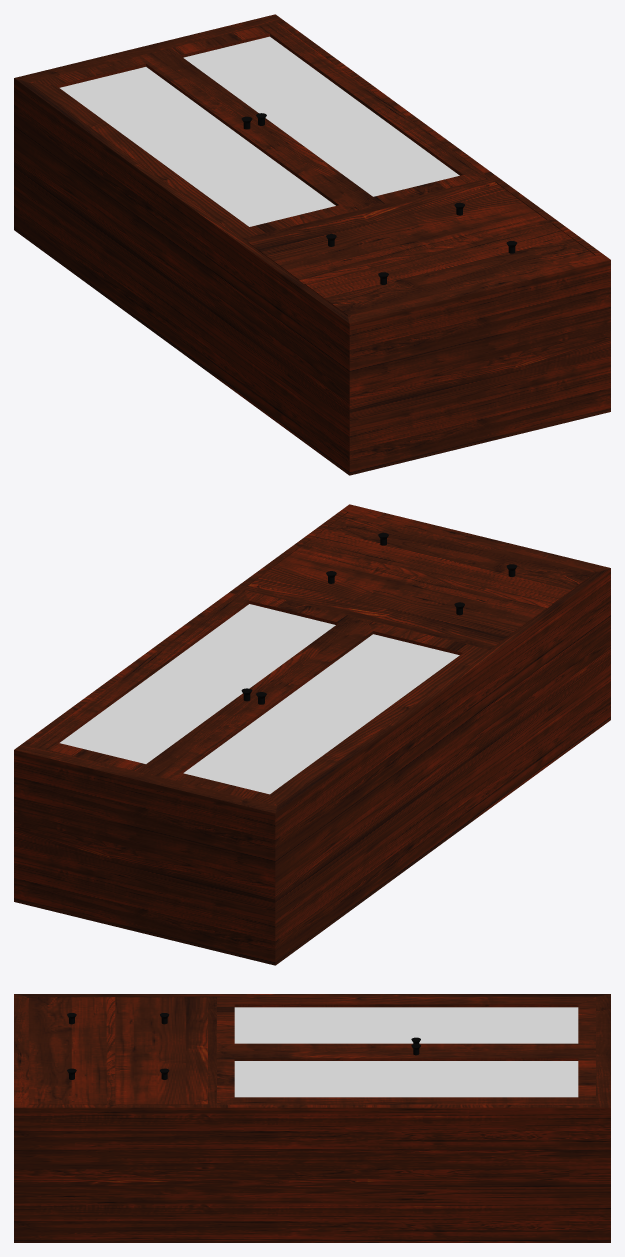
Rendered from armoire.fbx.
3 views of the same model, one above another, from view 1: azimuth 30°, elevation 25°; view 2: azimuth 150°, elevation 25°; view 3: azimuth 270°, elevation 25° (orthographic). The views are drawn at different scales.
Parts seen in each view (by area): view 1: Cylinder; view 2: Cylinder; view 3: Cylinder.
Boxes of the visible parts, <box> form: Cylinder: <box>14,14,610,475</box>; Cylinder: <box>14,504,610,965</box>; Cylinder: <box>14,994,610,1242</box>.
Bounding box in the file's own units: 0.9 × 0.53 × 2.
